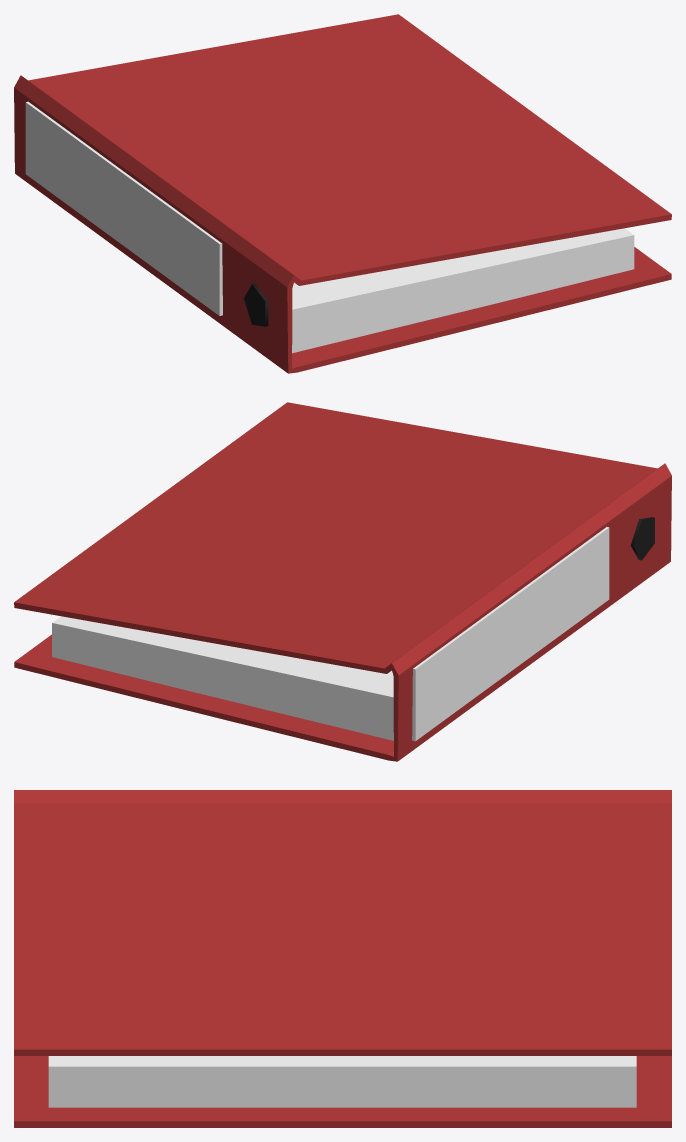
Rendered from SM_folder_01.fbx.
3 renders of one model, top to bottom at view 1: azimuth 30°, elevation 25°; view 2: azimuth 150°, elevation 25°; view 3: azimuth 270°, elevation 25°, orthographic. The views are drawn at different scales.
Parts seen in each view (by area): view 1: Object32262; view 2: Object32262; view 3: Object32262.
Boxes of the visible parts, box(x1,y1,x2,y2) form: Object32262: box(14, 14, 671, 373); Object32262: box(14, 402, 671, 761); Object32262: box(14, 790, 671, 1127).
Bounding box in the file's own units: 17.51 × 4.24 × 21.41.
